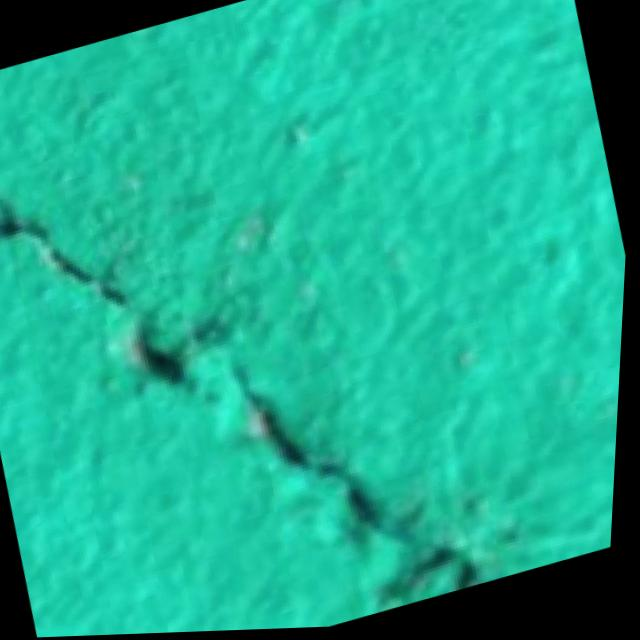Crack: (0, 56, 547, 640)
